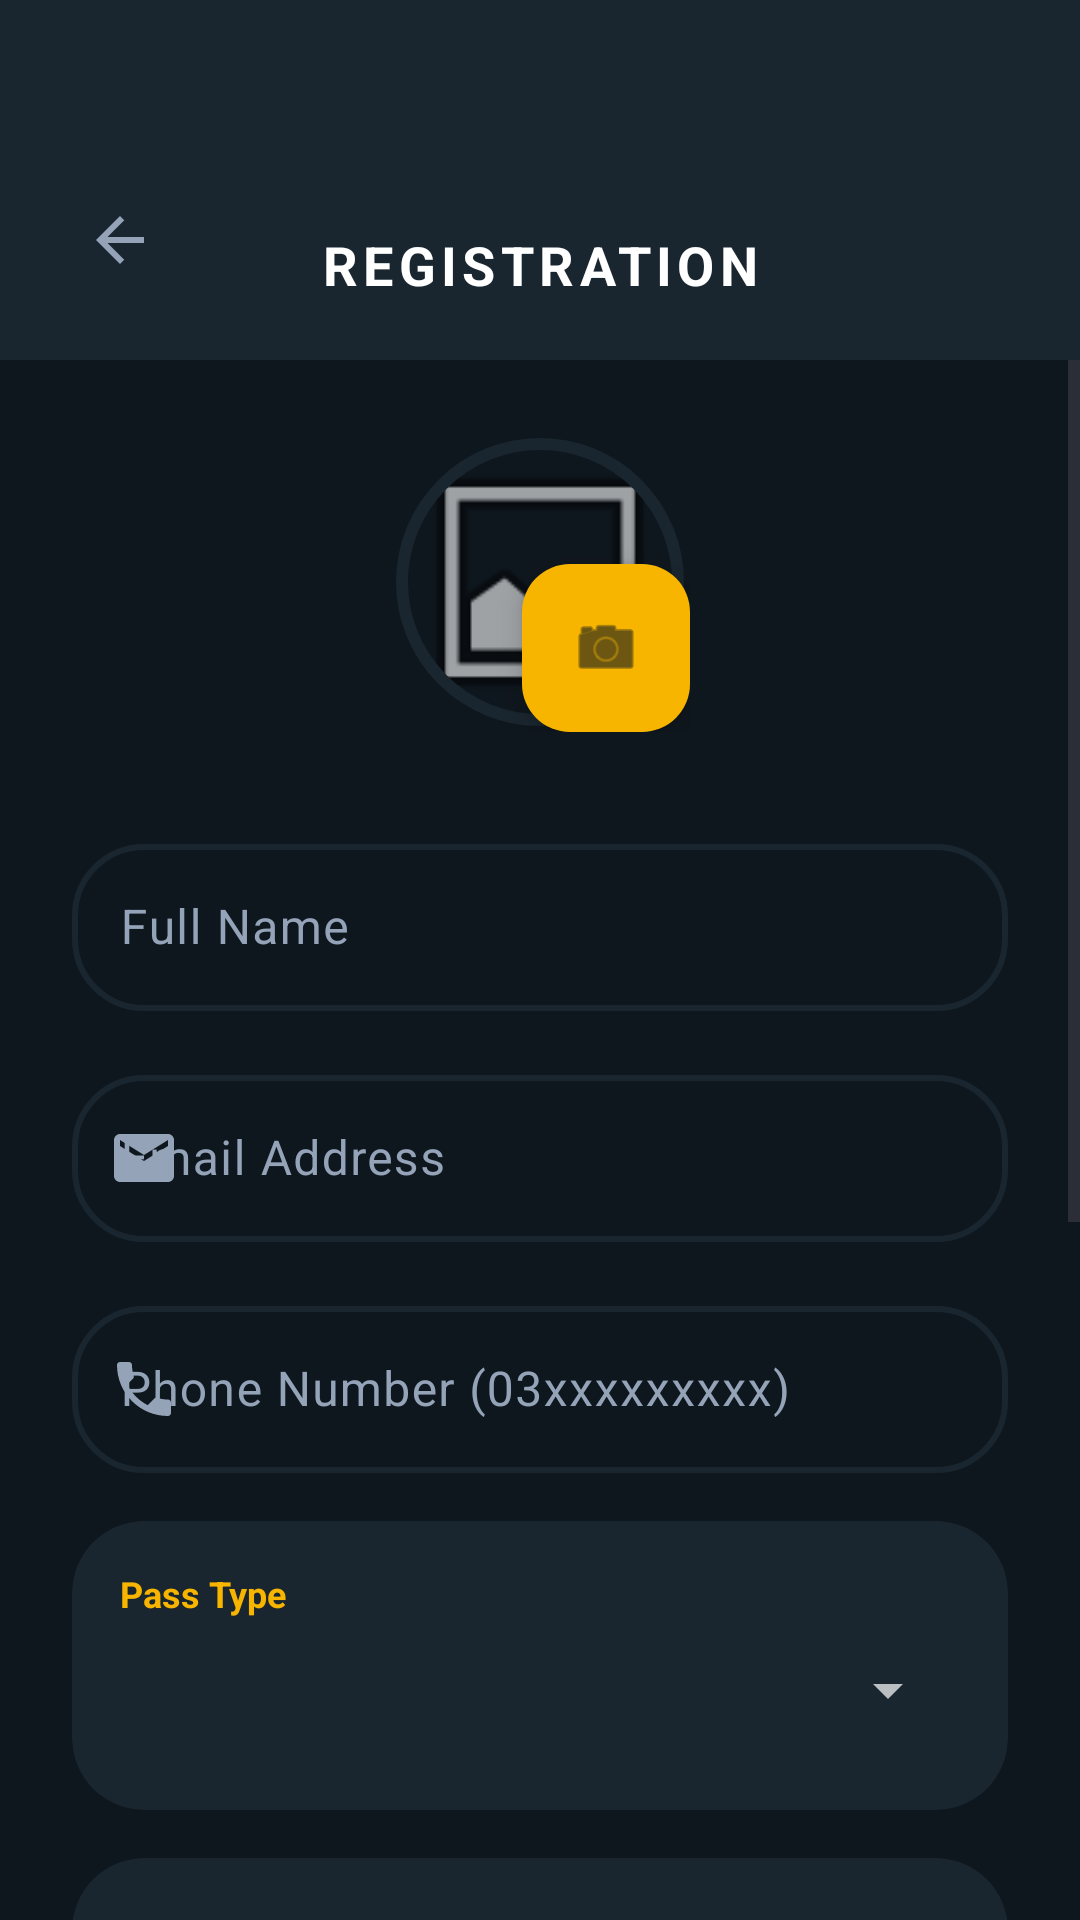

Icon bounding boxes for this 1080w x 1920h phone screenshot, format [left=x1, top=y1, right=x2, bottom=y2]:
arrow back: [left=96, top=216, right=144, bottom=264]
